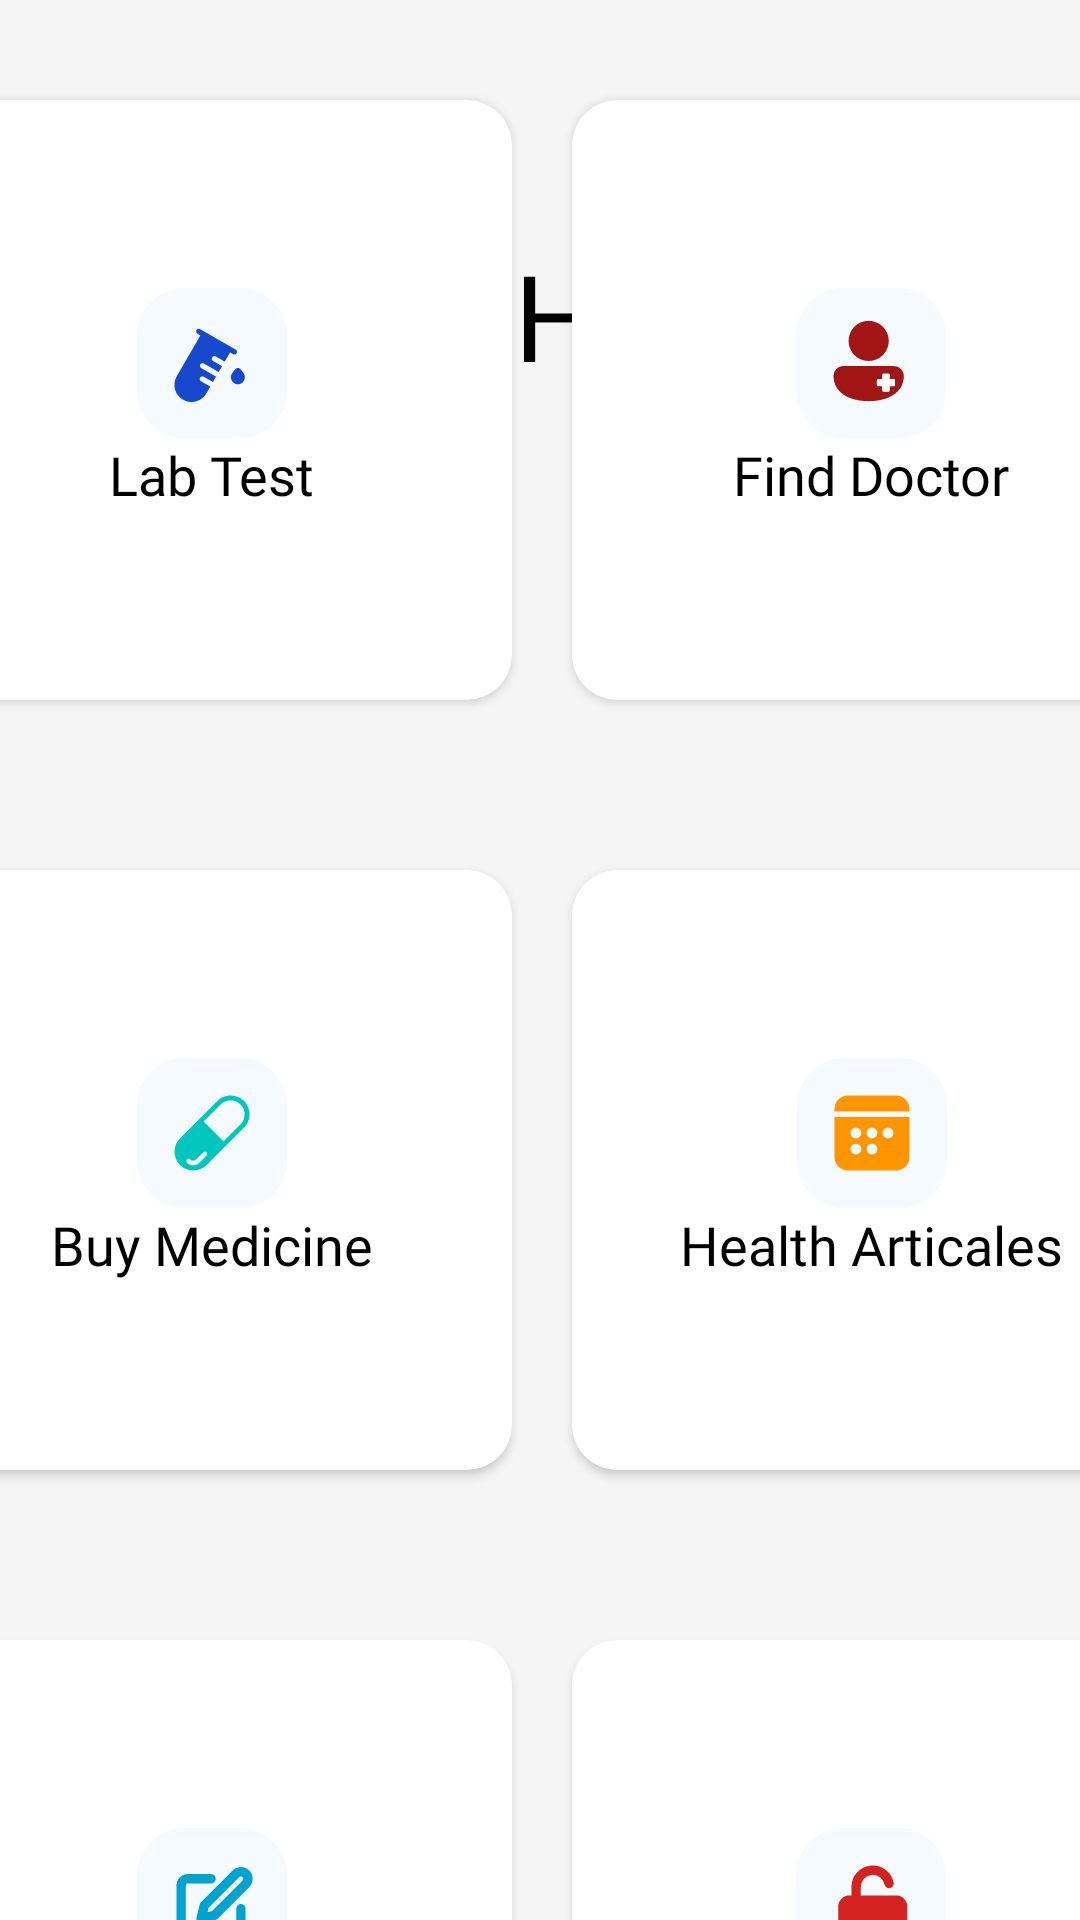

Screen size 1080 × 1920. Icon name, then its box in pixels as (x1, y1, x2, y2):
home calender: (834, 1095, 910, 1171)
